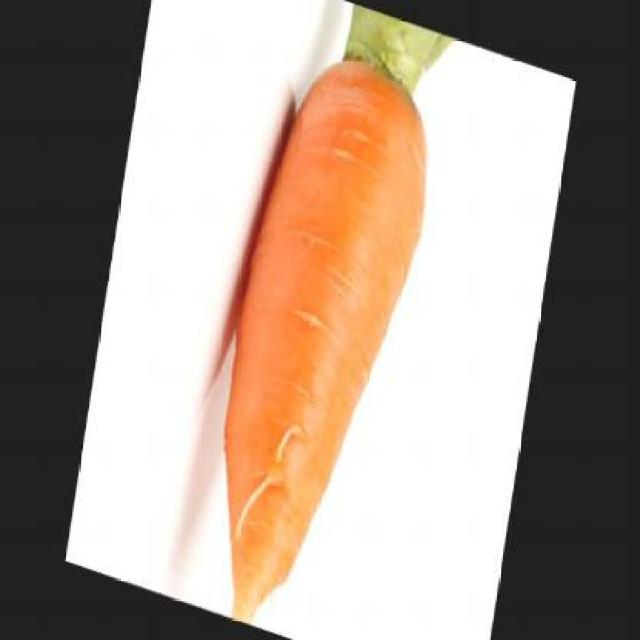carrot: (193, 32, 444, 638)
